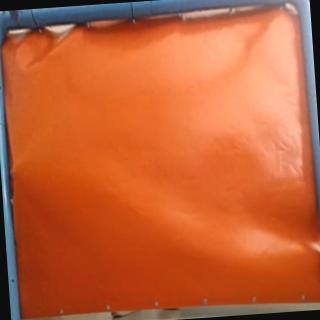Hit-hRxx: (8, 160, 20, 178)
